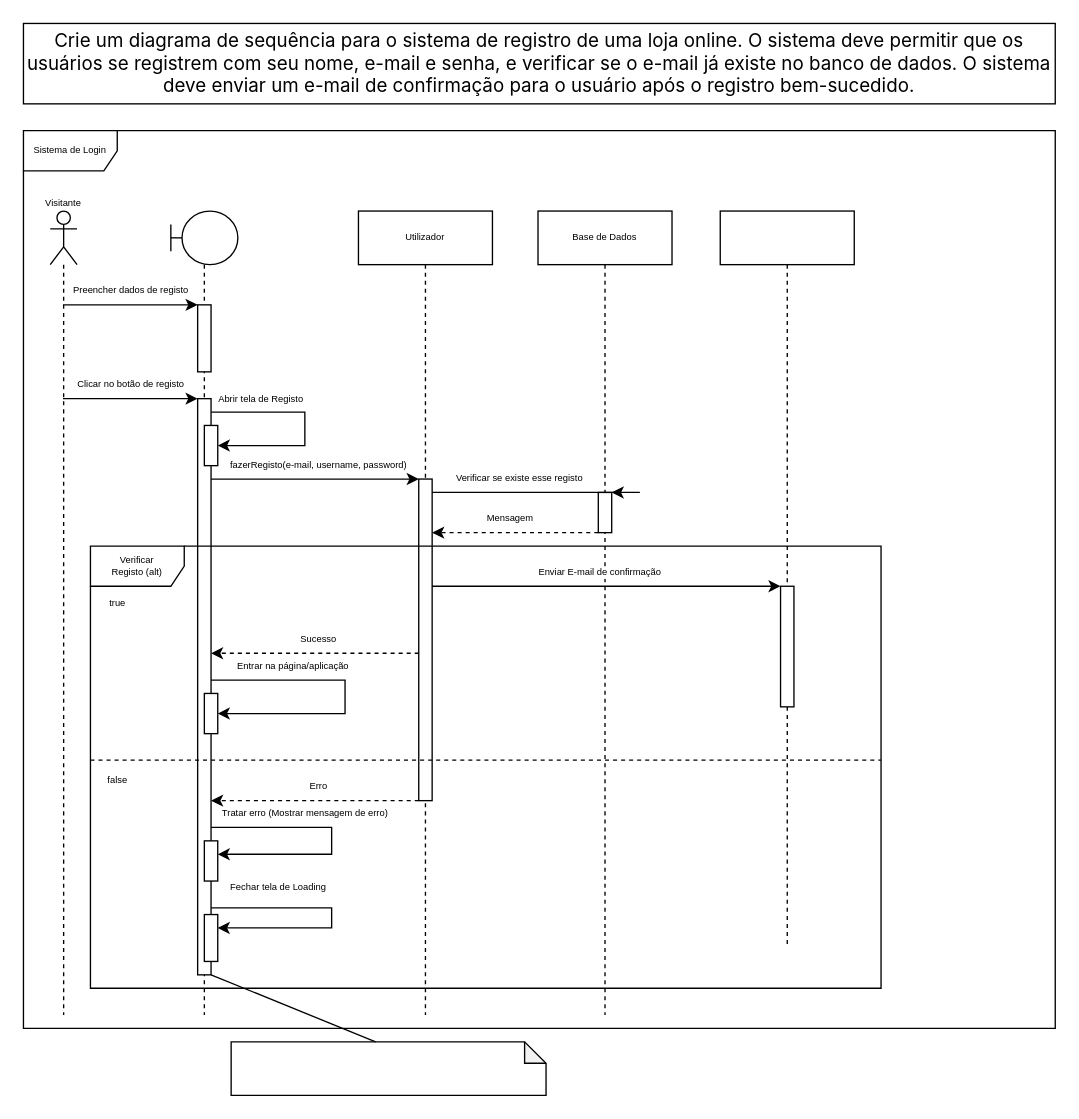
The diagram is 1079 pixels wide and 1119 high, and some of its shapes have lost their labels. Here are the shapes that lost their labels. From the top down, the centre of each, then its label:
At [786,579]: "Sistema de E-mails".
At [388,1068]: "Voltar ao início do diagrama!".
